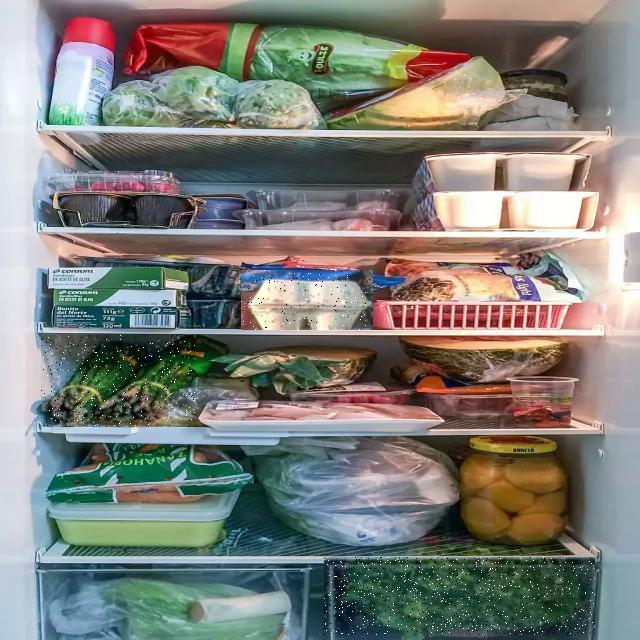Asparagus: (41, 335, 196, 427)
Eggs: (241, 270, 373, 330)
Spinach: (324, 558, 595, 636)
